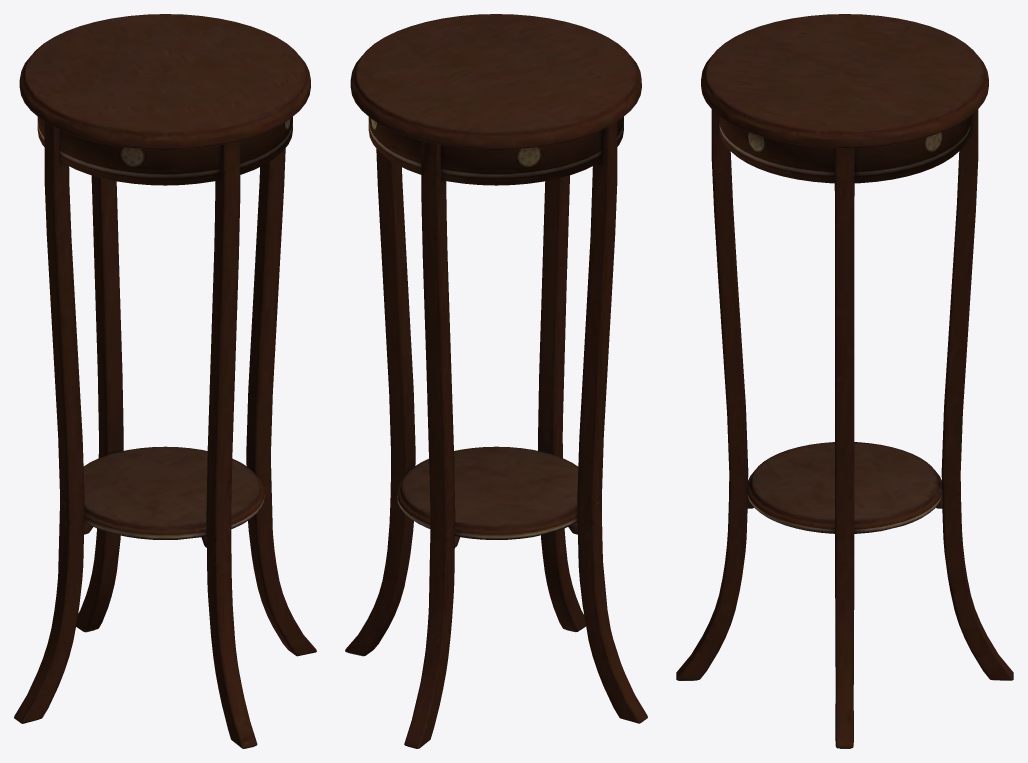
File: side_table_tall_01.glb
3 views of the same model, side by side, from view 1: azimuth 30°, elevation 25°; view 2: azimuth 150°, elevation 25°; view 3: azimuth 270°, elevation 25° (orthographic).
Parts seen in each view (by area): view 1: side_table_tall_01; view 2: side_table_tall_01; view 3: side_table_tall_01.
Part boxes in pixels (x1=…): side_table_tall_01: x1=14, y1=14, x2=316, y2=748; side_table_tall_01: x1=345, y1=14, x2=647, y2=748; side_table_tall_01: x1=676, y1=14, x2=1013, y2=748.
Bounding box in the file's own units: 0.384 × 0.7612 × 0.384.
Materials: 1 (1 with a texture image).
